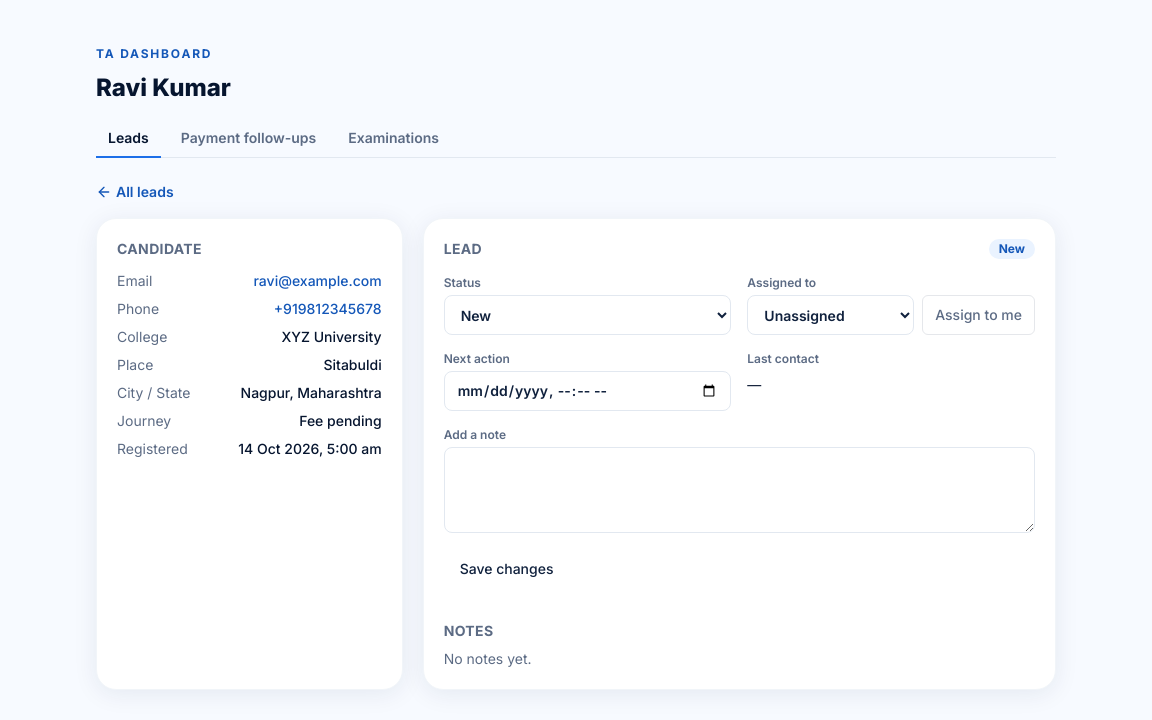
Test case: Lead detail (US8) › reloads and explains when someone else changed the lead
The image size is (1152, 720).
Select "Queued" in the dropdown labelled "Status". click: (588,315)
box: [444,295,731,335]
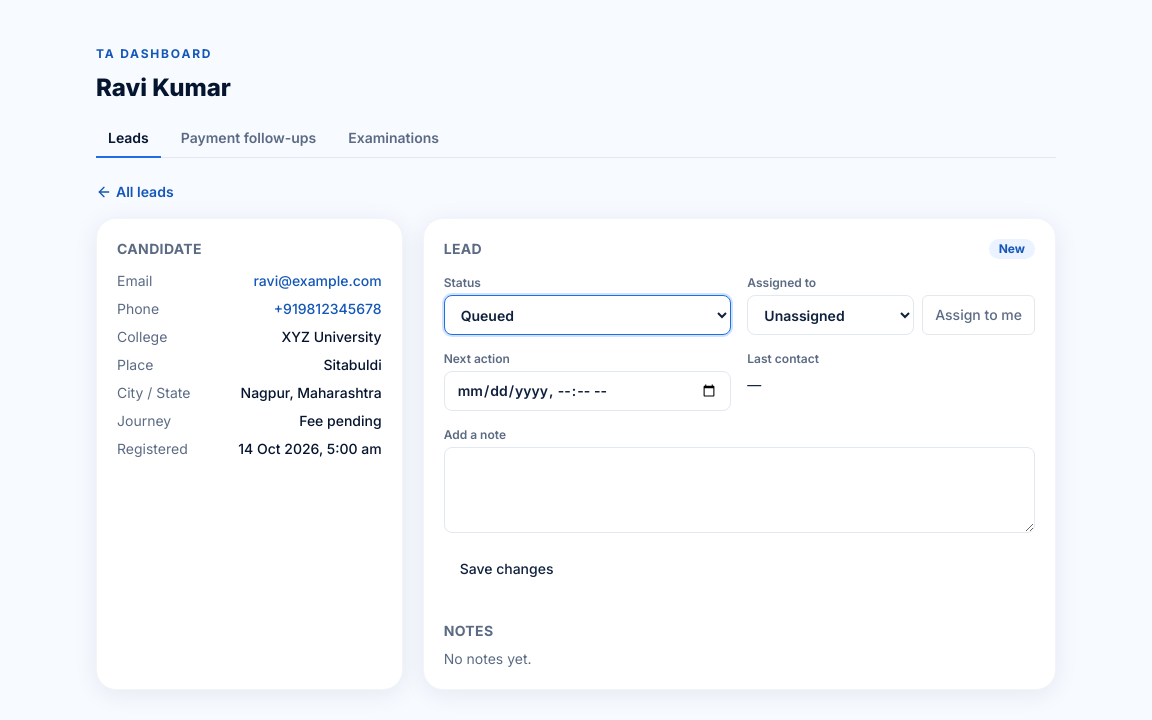
Click the button "Save changes". click: (507,569)
box: [444,549,570,589]
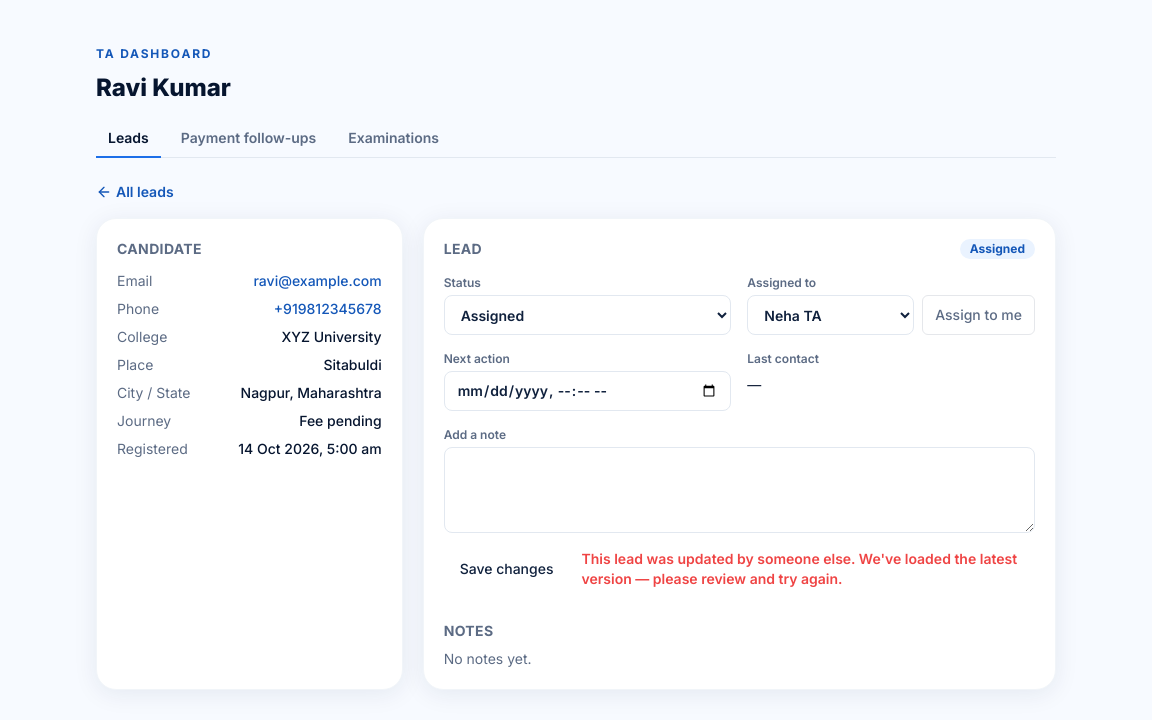
Result: the message shows "updated by someone else" at [582,550,1017,587]
Result: the dropdown labelled "Assigned to" shows "Neha TA" at [747,295,914,335]
